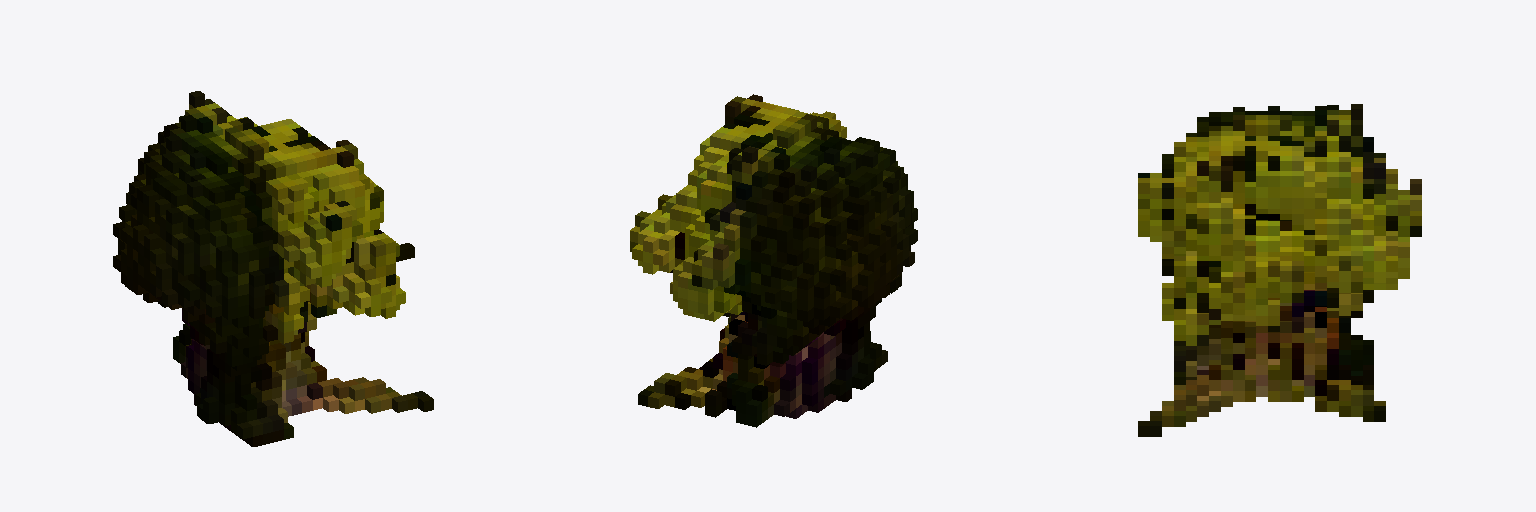
File: regen_iter_20.obj
3 renders of one model, left to right at view 1: azimuth 30°, elevation 25°; view 2: azimuth 150°, elevation 25°; view 3: azimuth 270°, elevation 25°, orthographic.
Parts seen in each view (by area): view 1: regen_iter_20; view 2: regen_iter_20; view 3: regen_iter_20.
Part boxes in pixels (x1,y1,x2,y2): regen_iter_20: (113,91,433,446); regen_iter_20: (630,94,917,427); regen_iter_20: (1138,104,1421,436).
Bounding box in the file's own units: 2.3 × 2.6 × 2.4.